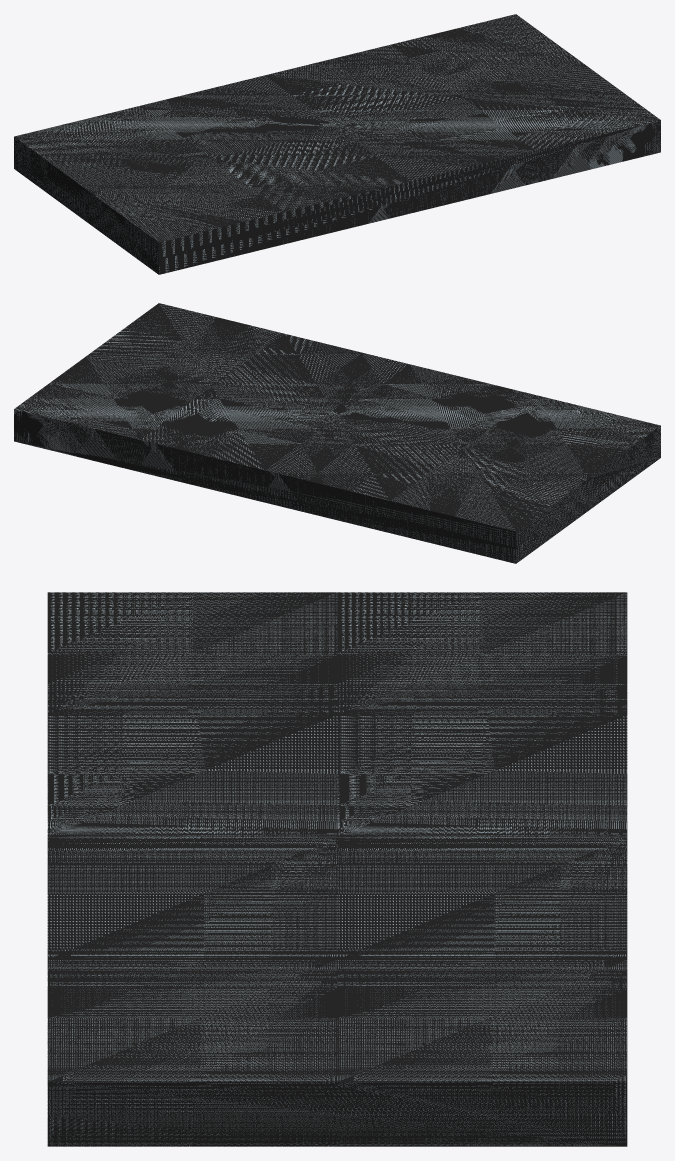
File: dancefloor.dae
The picture shows the model from 3 angles, top to bottom: view 1: azimuth 30°, elevation 25°; view 2: azimuth 150°, elevation 25°; view 3: azimuth 270°, elevation 25°; orthographic projection. The views are drawn at different scales.
Visible parts, largest first — view 1: SketchUp; view 2: SketchUp; view 3: SketchUp.
Boxes of the visible parts, <box> form: SketchUp: <box>14,14,660,274</box>; SketchUp: <box>14,303,660,563</box>; SketchUp: <box>47,592,627,1146</box>.
Bounding box in the file's own units: 192 × 96.06 × 11.81.
